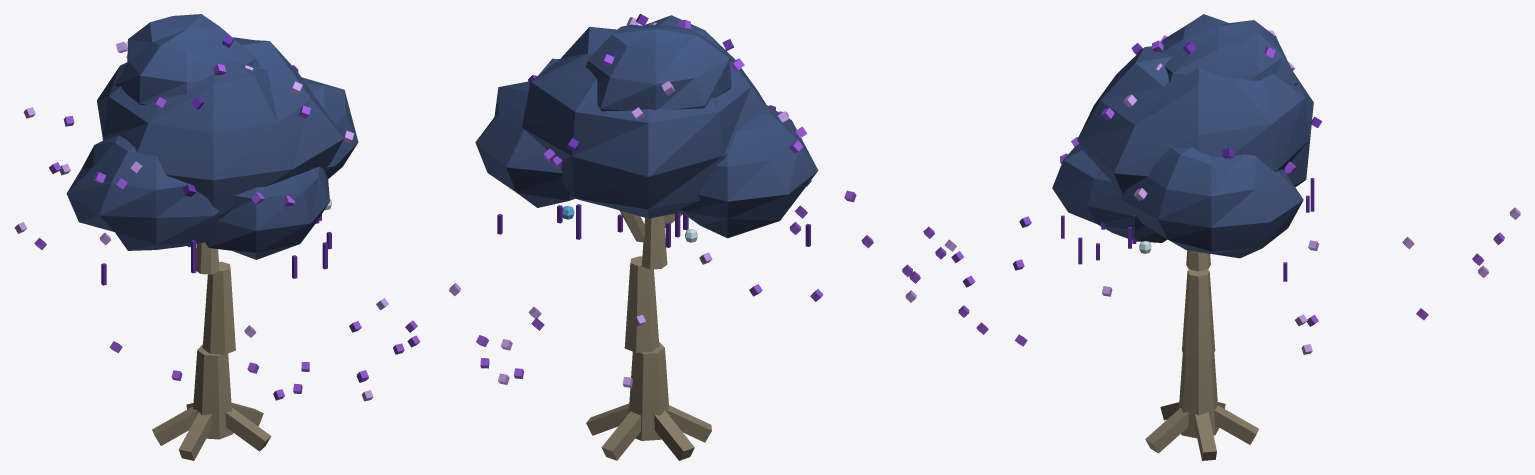
File: lumen_tree.glb
3 renders of one model, left to right at view 1: azimuth 30°, elevation 25°; view 2: azimuth 150°, elevation 25°; view 3: azimuth 270°, elevation 25°, orthographic. The views are drawn at different scales.
Parts seen in each view (by area): view 1: lumen_tree; view 2: lumen_tree; view 3: lumen_tree.
Boxes of the visible parts, x1=… form: lumen_tree: x1=14, y1=14, x2=420, y2=460; lumen_tree: x1=449, y1=14, x2=873, y2=460; lumen_tree: x1=902, y1=14, x2=1520, y2=460.
Size of the model in its own units: 5.13 by 7.01 by 9.75.
